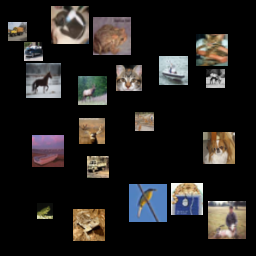automobile: (24, 42, 43, 61)
bird: (129, 184, 167, 222)
cat: (51, 6, 89, 44), (196, 34, 228, 66), (171, 183, 203, 215), (116, 65, 142, 91)
deer: (208, 201, 246, 239), (78, 76, 107, 105), (79, 118, 105, 144), (135, 112, 154, 131), (206, 69, 225, 88)
dog: (203, 132, 235, 164)
frog: (93, 17, 131, 55), (73, 209, 105, 241), (37, 203, 53, 219)
ship: (32, 135, 64, 167), (159, 56, 188, 85)
